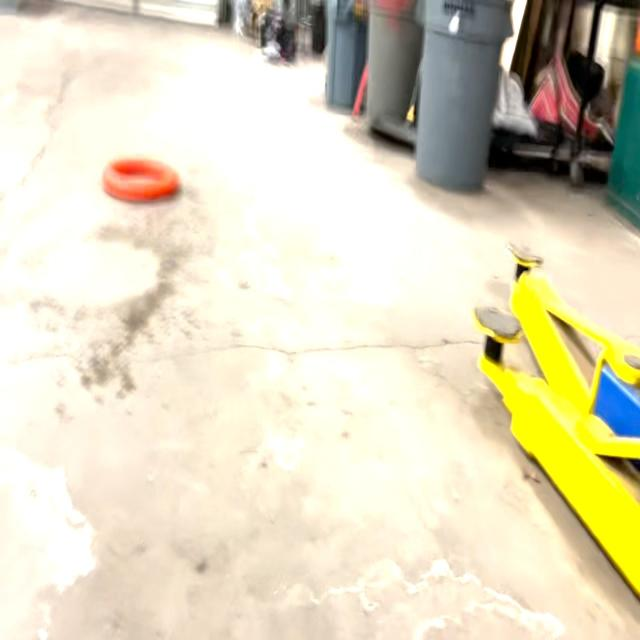note: (99, 152, 184, 199)
